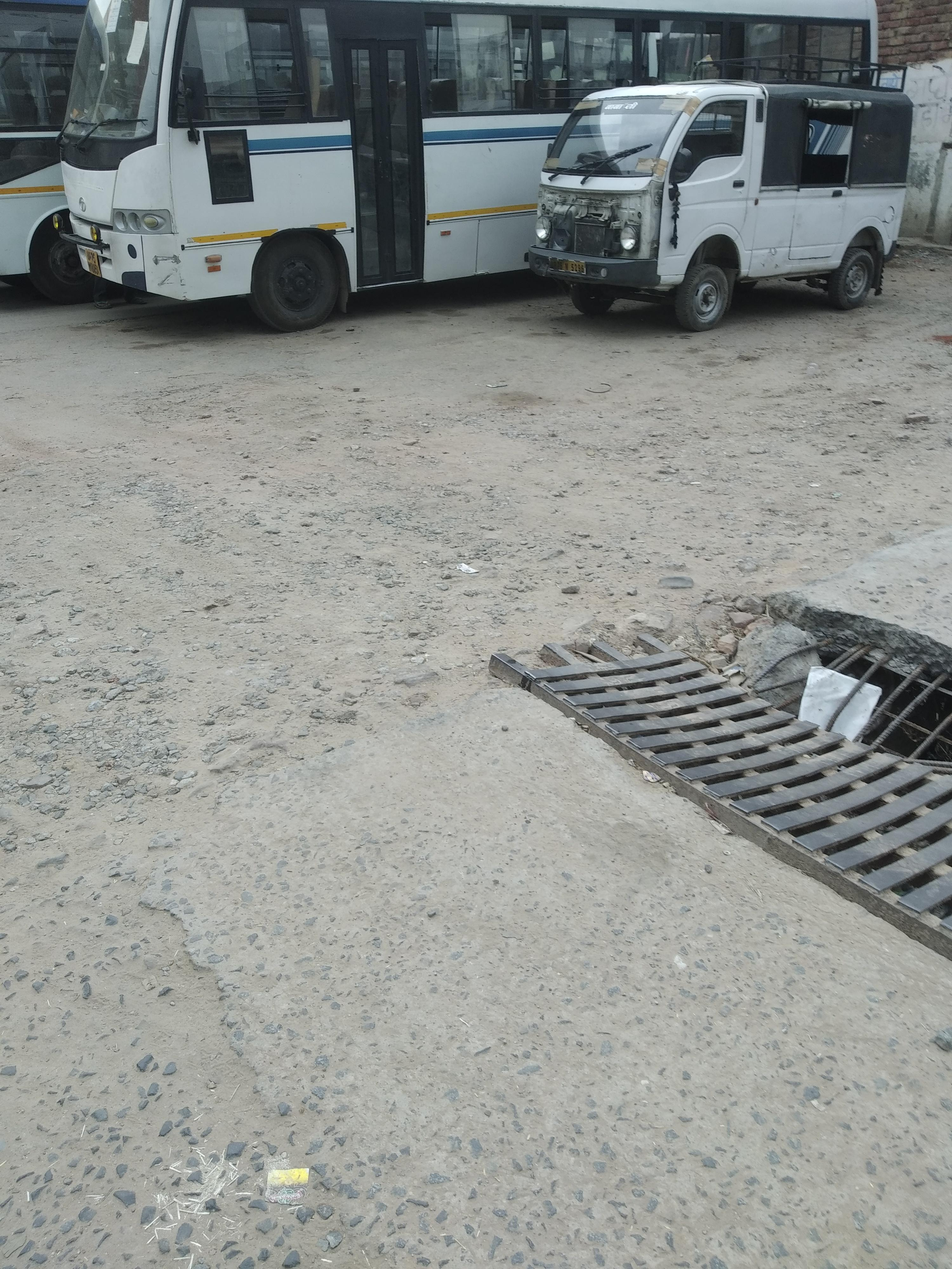non-ambulance: (68, 0, 897, 313), (537, 129, 929, 363)
